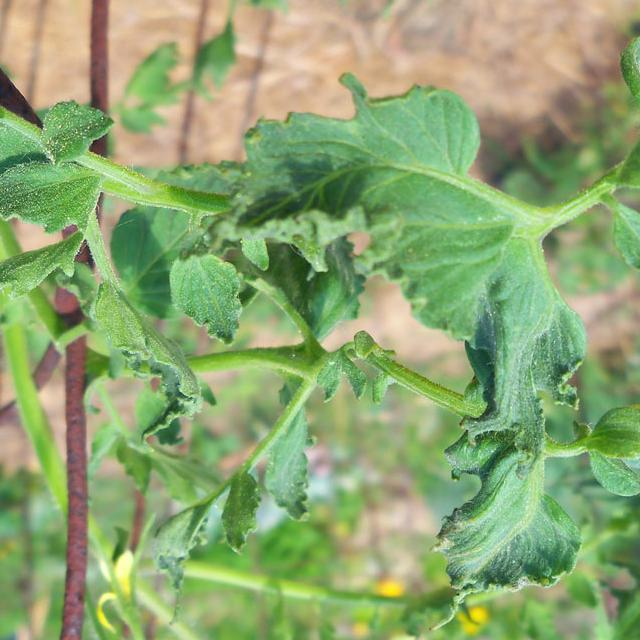Tomato leaf mosaic virus: (243, 89, 550, 341), (429, 219, 589, 632), (0, 88, 110, 236), (163, 252, 249, 347), (265, 401, 317, 534), (610, 3, 640, 214)
